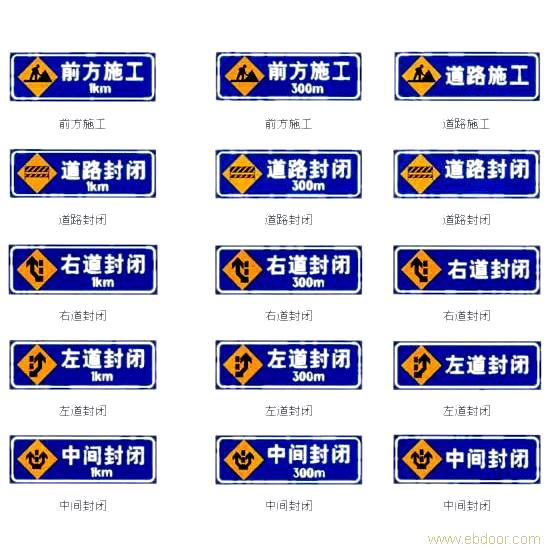sign: (216, 436, 362, 485), (9, 434, 154, 483), (7, 245, 157, 292), (218, 149, 361, 198), (11, 339, 156, 387), (395, 245, 537, 293), (396, 341, 540, 388), (217, 52, 362, 98), (12, 150, 153, 197), (396, 436, 540, 482), (216, 247, 361, 292), (11, 53, 155, 98), (395, 152, 538, 197), (218, 343, 360, 388), (396, 55, 537, 97)
